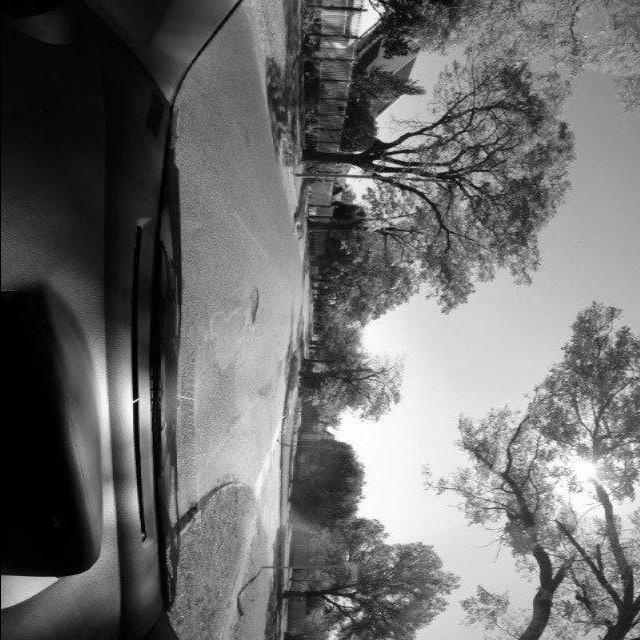lubang: (249, 285, 267, 328)
